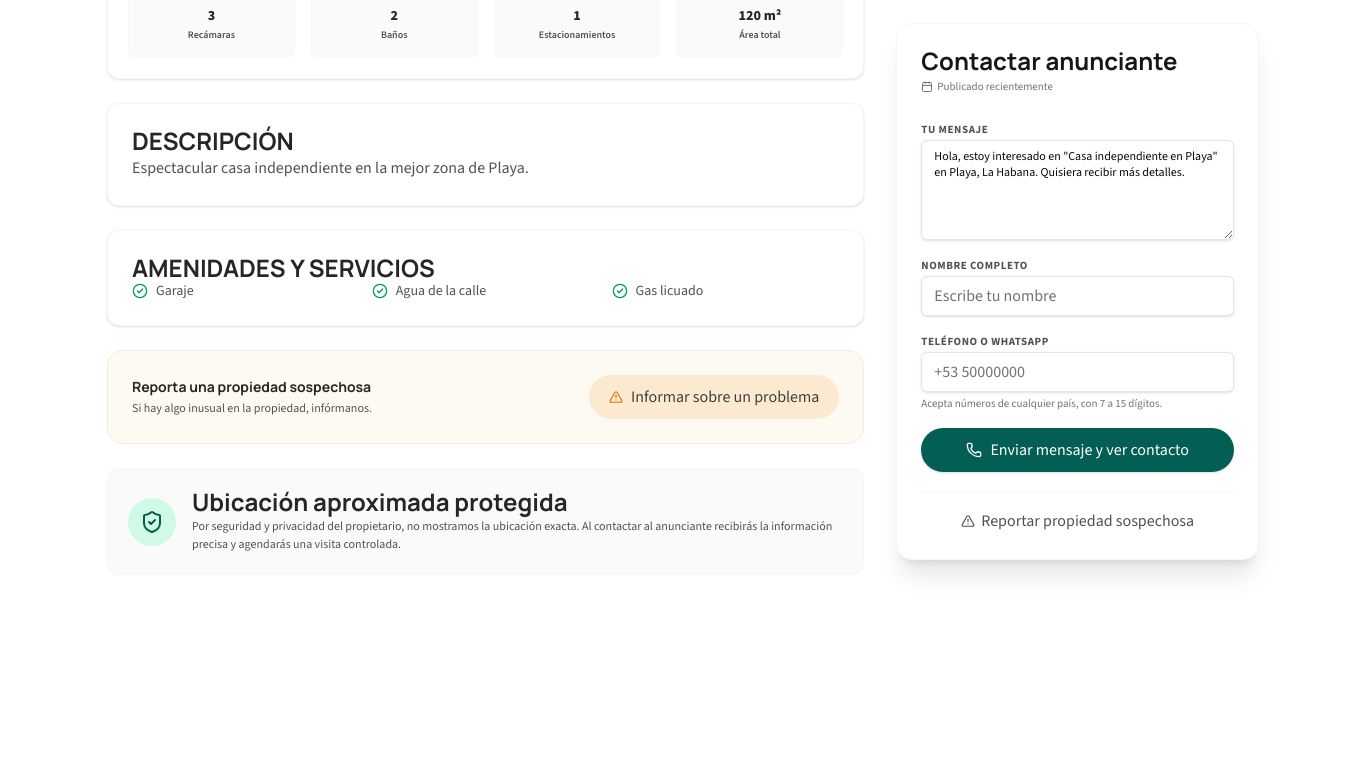
Scenario: DetailPage - Reportes y Visor › debería abrir el modal de reportes al hacer clic en "Reportar propiedad sospechosa"
(page scrolled)
Click the button "Reportar propiedad sospechosa" at (1078, 521), box [961,509,1194,533]
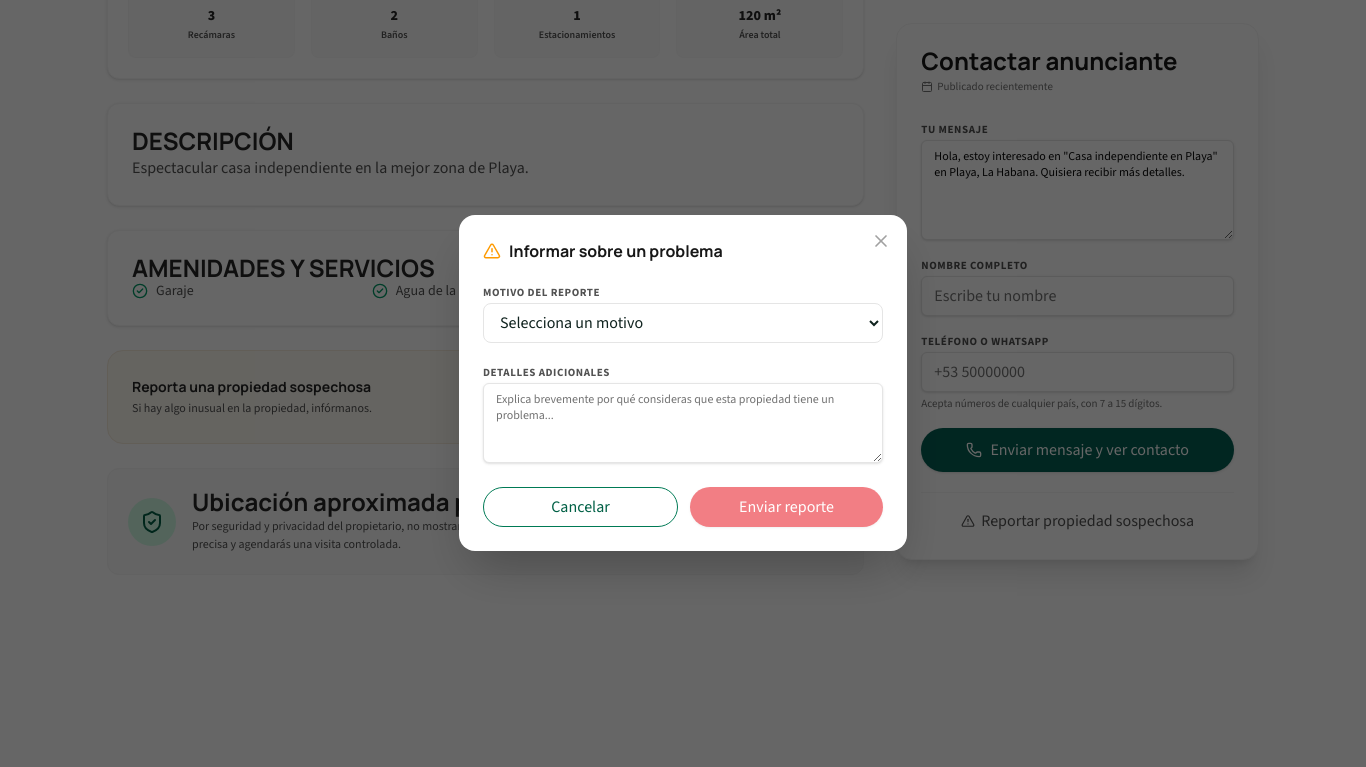
Check: the heading "Informar sobre un problema" is shown, box [483,240,723,262]
